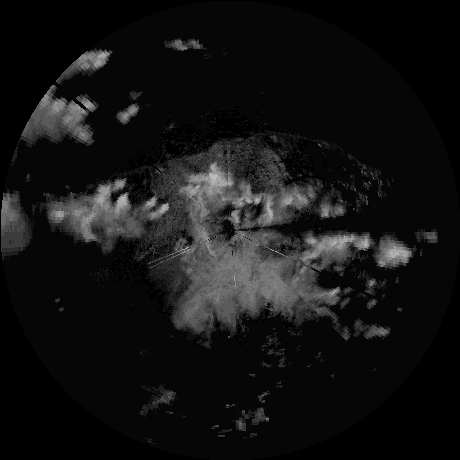frontgust: (263, 133, 386, 185)
